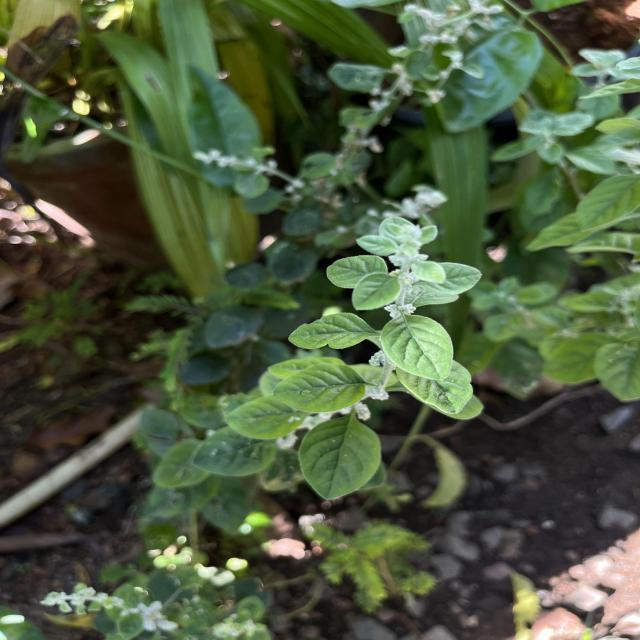Aerva lanata: (378, 313, 456, 383), (286, 310, 374, 351), (324, 253, 390, 289)
